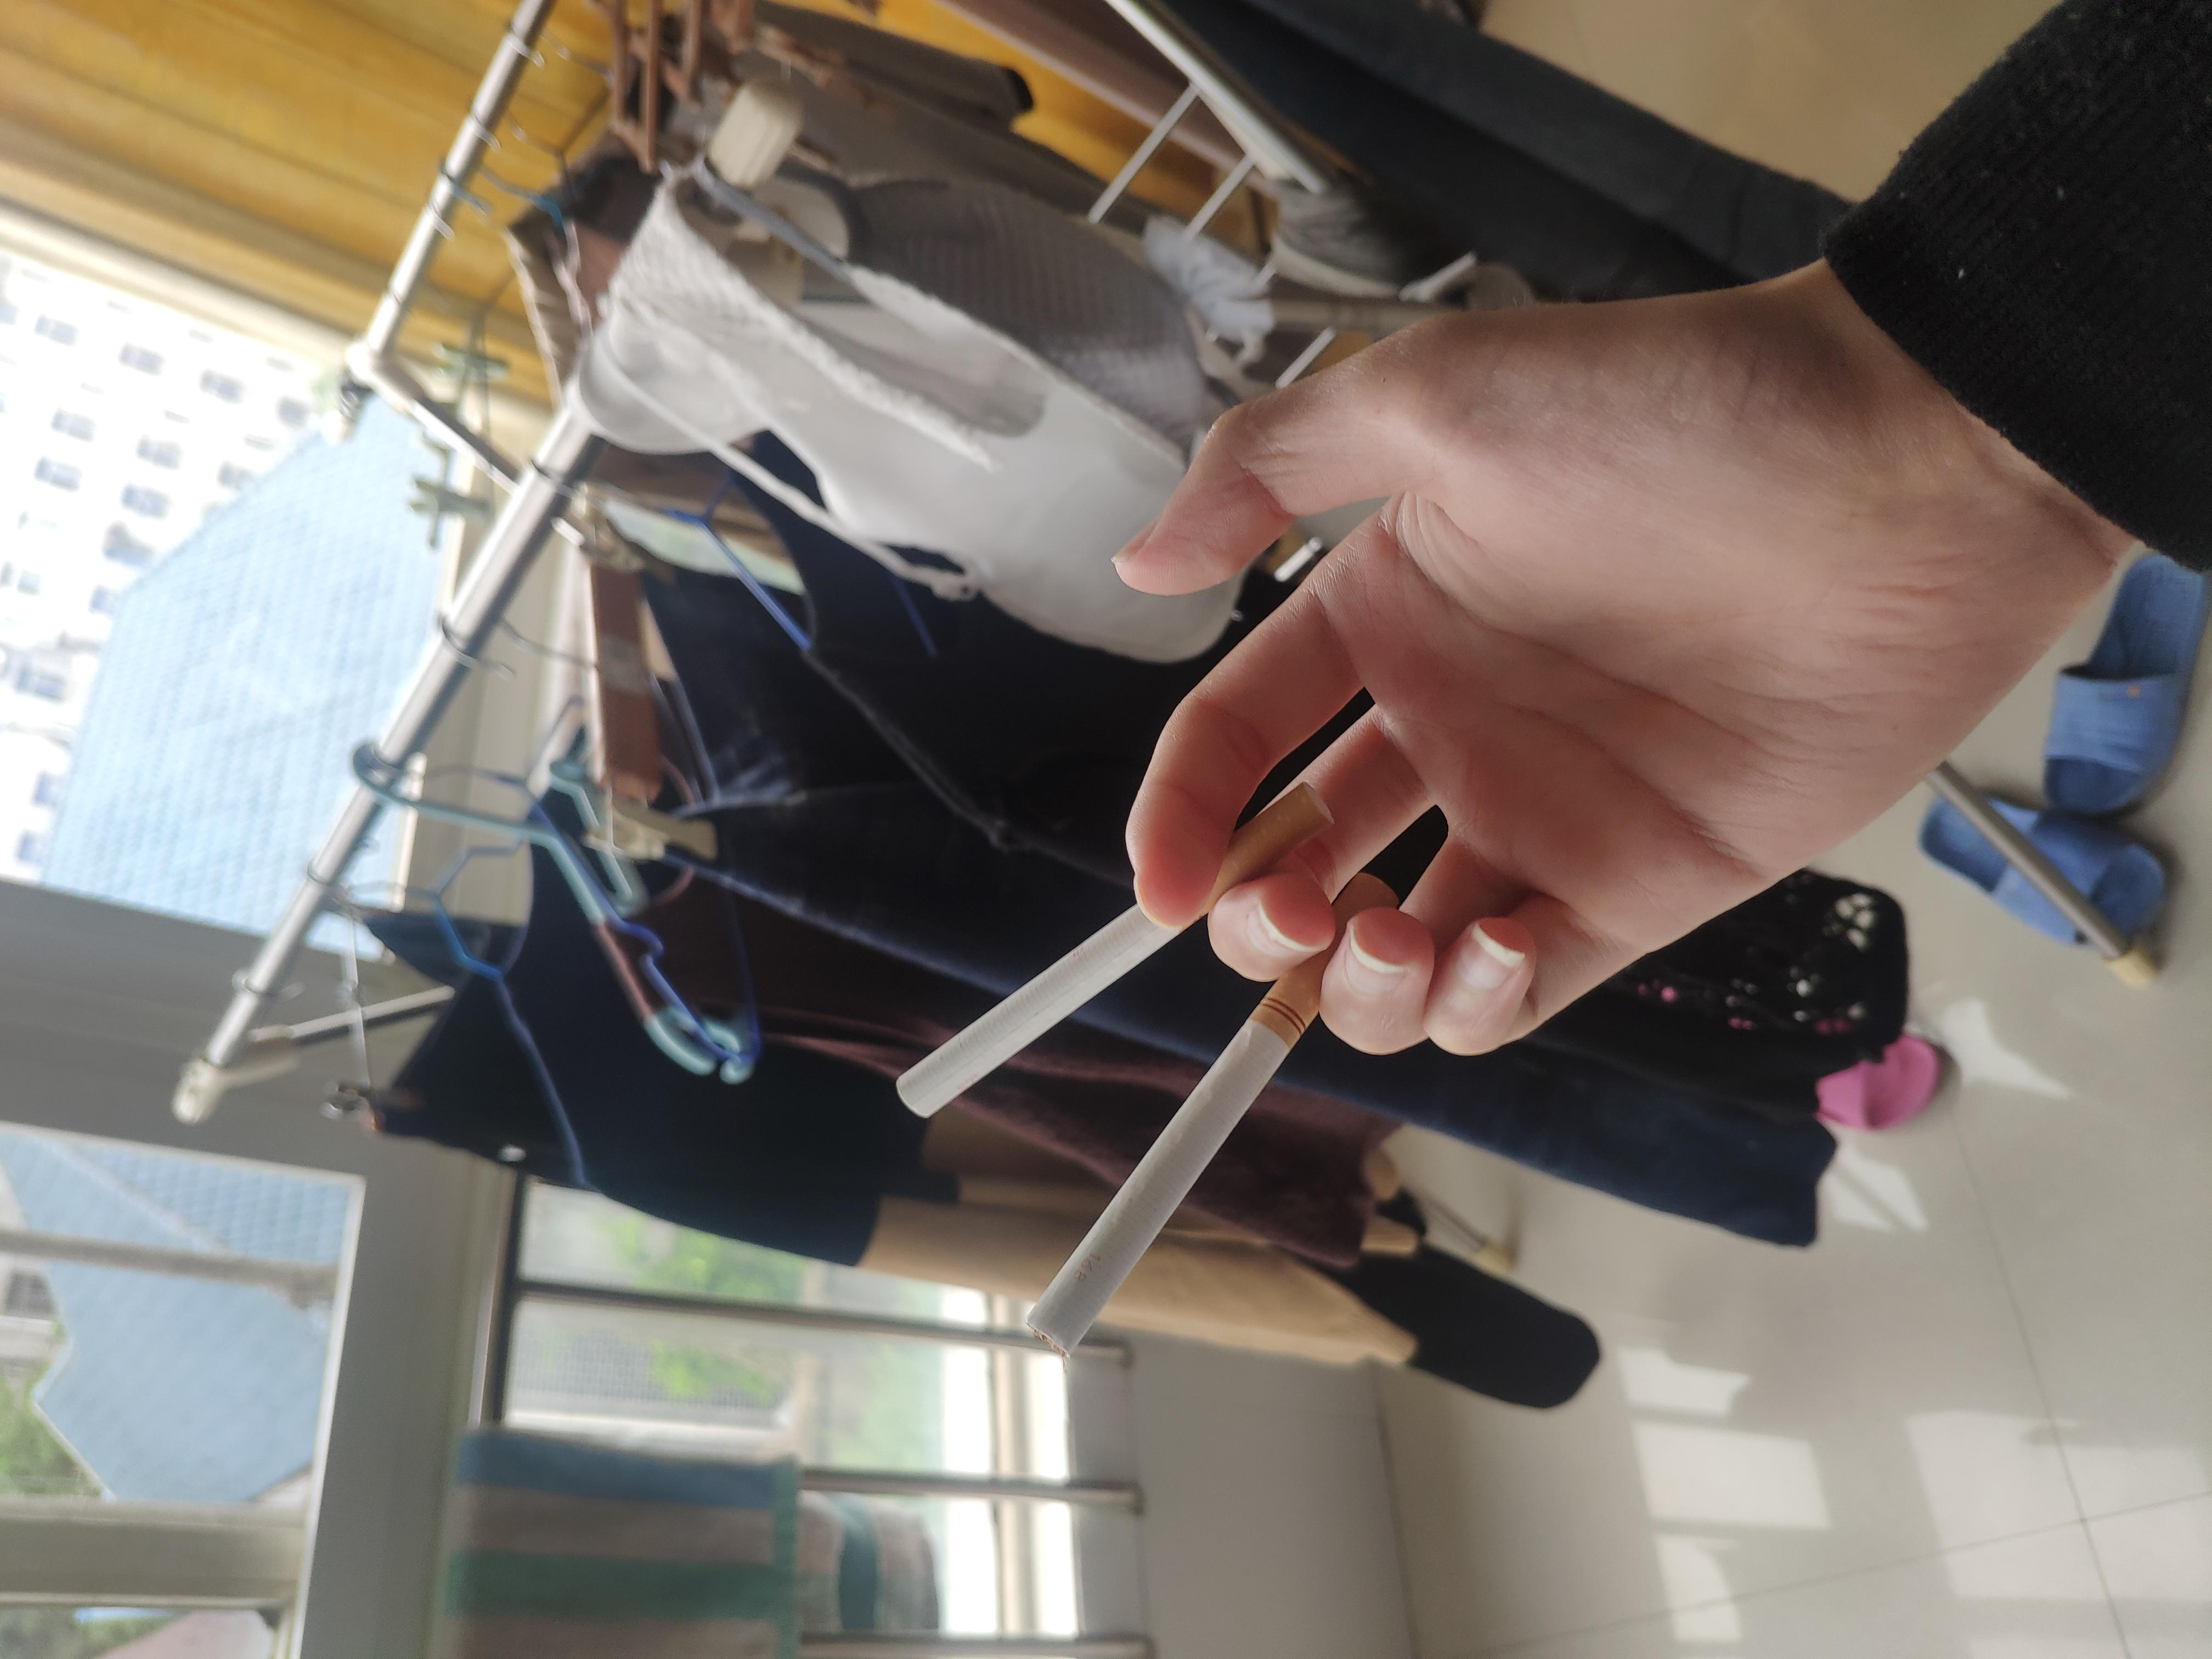smoke: (404, 767, 1050, 1056), (714, 671, 1174, 1006)
